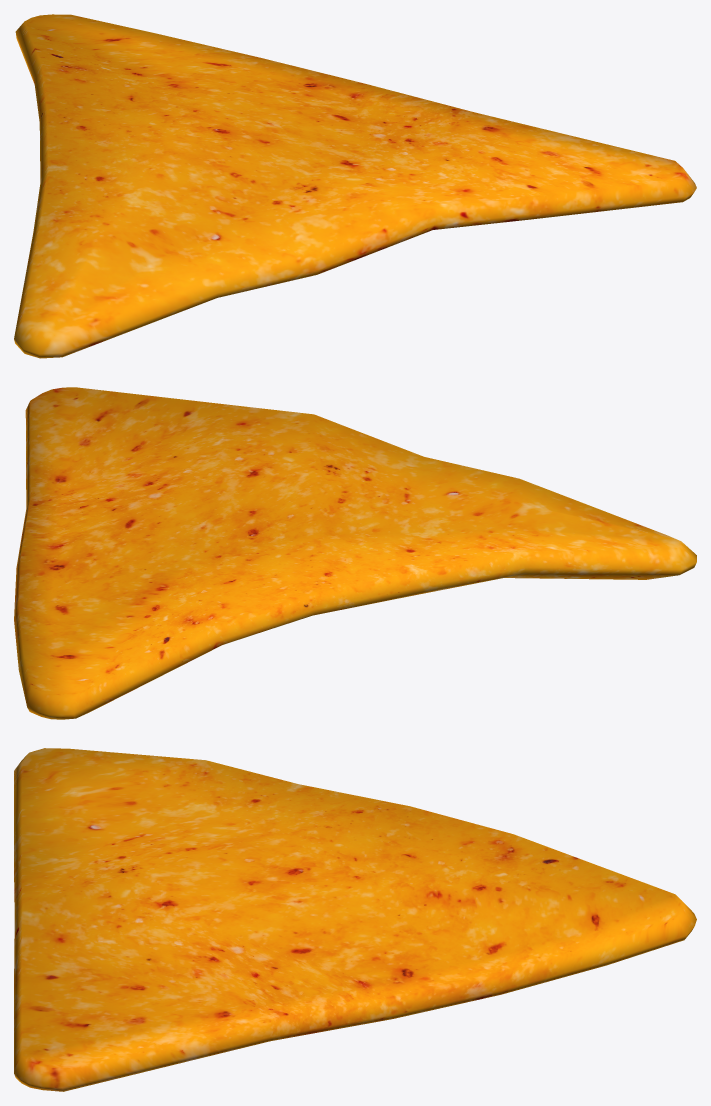
Rendered from Nacho (1).fbx.
3 renders of one model, top to bottom at view 1: azimuth 30°, elevation 25°; view 2: azimuth 150°, elevation 25°; view 3: azimuth 270°, elevation 25°, orthographic. The views are drawn at different scales.
Parts seen in each view (by area): view 1: Cylinder; view 2: Cylinder; view 3: Cylinder.
Part boxes in pixels (x1=…): Cylinder: x1=14, y1=14, x2=696, y2=358; Cylinder: x1=14, y1=387, x2=696, y2=719; Cylinder: x1=14, y1=748, x2=696, y2=1091.
Size of the model in its own units: 168 by 15.78 by 146.
1 material, 1 textured.
